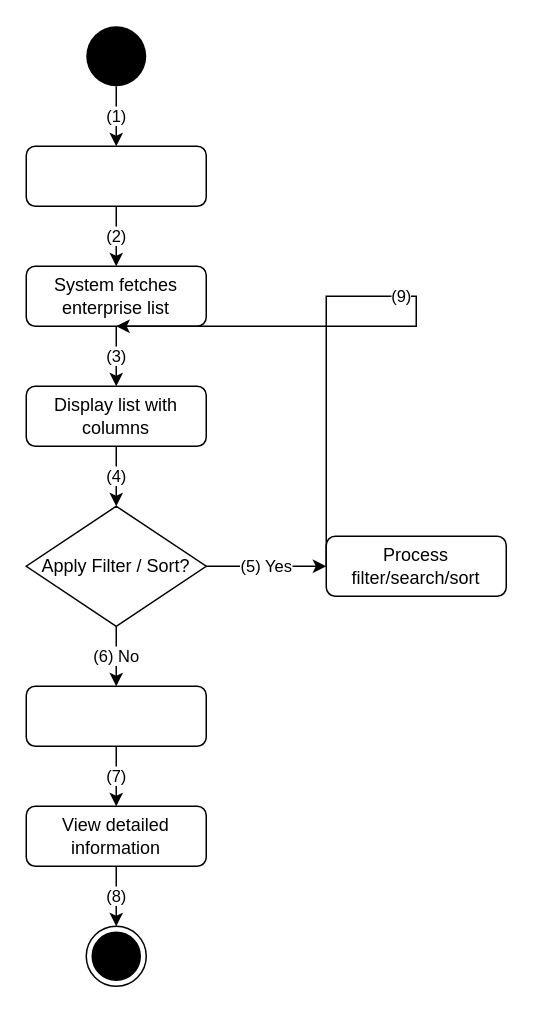
Image size: 533x1013. Some labels were removed from this diagram. The centre of each missing label's shape, as x and y in pixels:
"Navigate to Enterprise Management" belongs at (x=115, y=175).
"Select an enterprise" belongs at (x=115, y=715).
